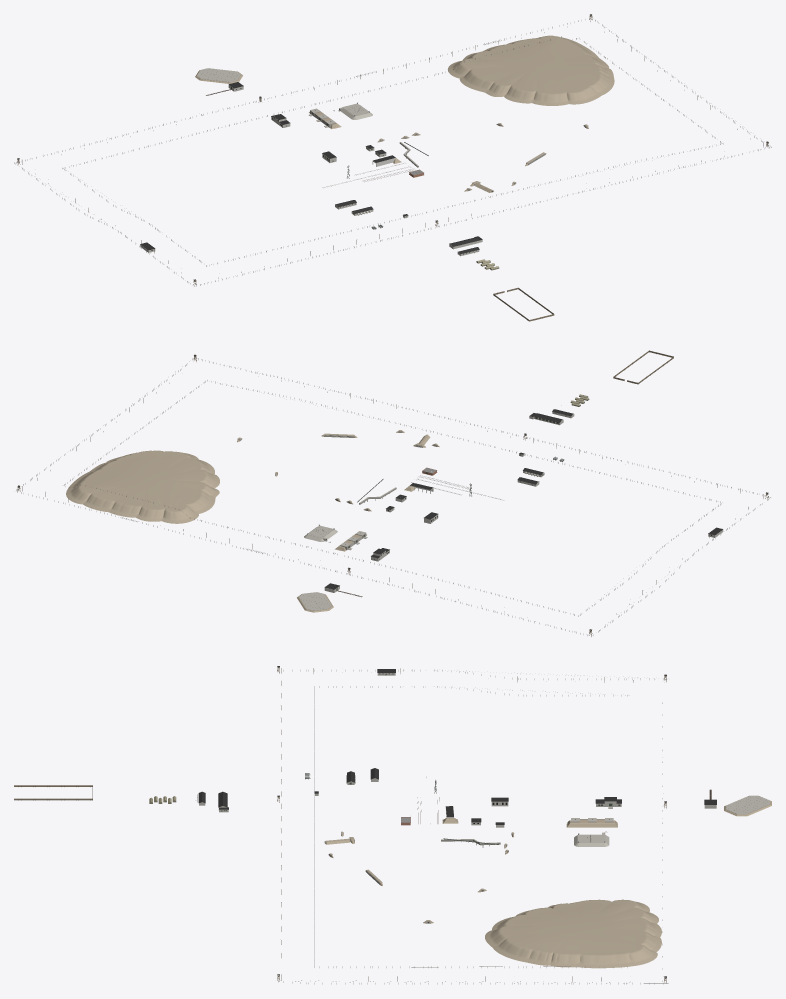
3 views of the same model, one above another, from view 1: azimuth 30°, elevation 25°; view 2: azimuth 150°, elevation 25°; view 3: azimuth 270°, elevation 25° (orthographic). The views are drawn at different scales.
Visible parts, largest first — view 1: SpoilHeap_Earth; view 2: SpoilHeap_Earth; view 3: SpoilHeap_Earth, Site51_ConcretePad.
Boxes of the visible parts, left/top/right/bottom form: SpoilHeap_Earth: left=447, top=35, right=614, bottom=105; SpoilHeap_Earth: left=66, top=450, right=219, bottom=523; SpoilHeap_Earth: left=485, top=899, right=661, bottom=968; Site51_ConcretePad: left=726, top=795, right=769, bottom=814.
Bounding box in the file's own units: 922 × 34.08 × 953.
